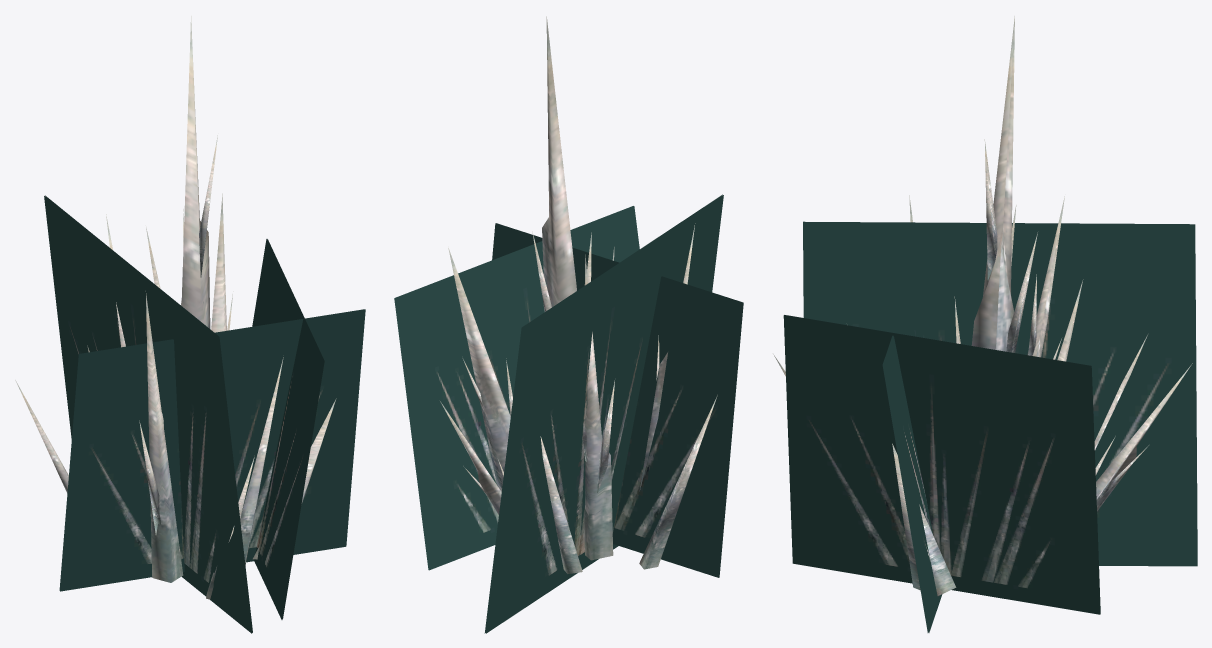
Rendered from rock_crystl_shrpbush_main_l0.fbx.
3 renders of one model, left to right at view 1: azimuth 30°, elevation 25°; view 2: azimuth 150°, elevation 25°; view 3: azimuth 270°, elevation 25°, orthographic. The views are drawn at different scales.
Parts seen in each view (by area): view 1: mesh_node; view 2: mesh_node; view 3: mesh_node.
Part boxes in pixels (box(x1,y1,x2,y2)): mesh_node: box(15, 16, 365, 633); mesh_node: box(394, 16, 743, 633); mesh_node: box(773, 16, 1197, 632).
Bounding box in the file's own units: 3.32 × 5.98 × 4.04.
